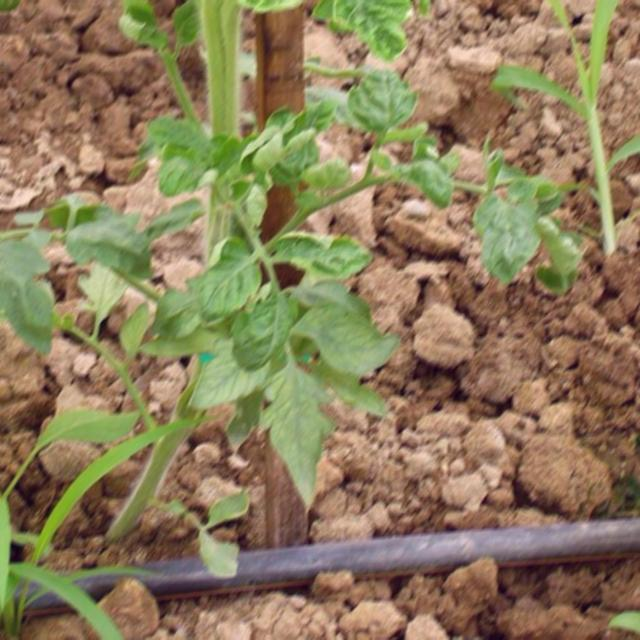Tomato leaf: (257, 338, 335, 510), (471, 188, 549, 288), (0, 232, 67, 338), (345, 64, 413, 148), (335, 0, 427, 60)
